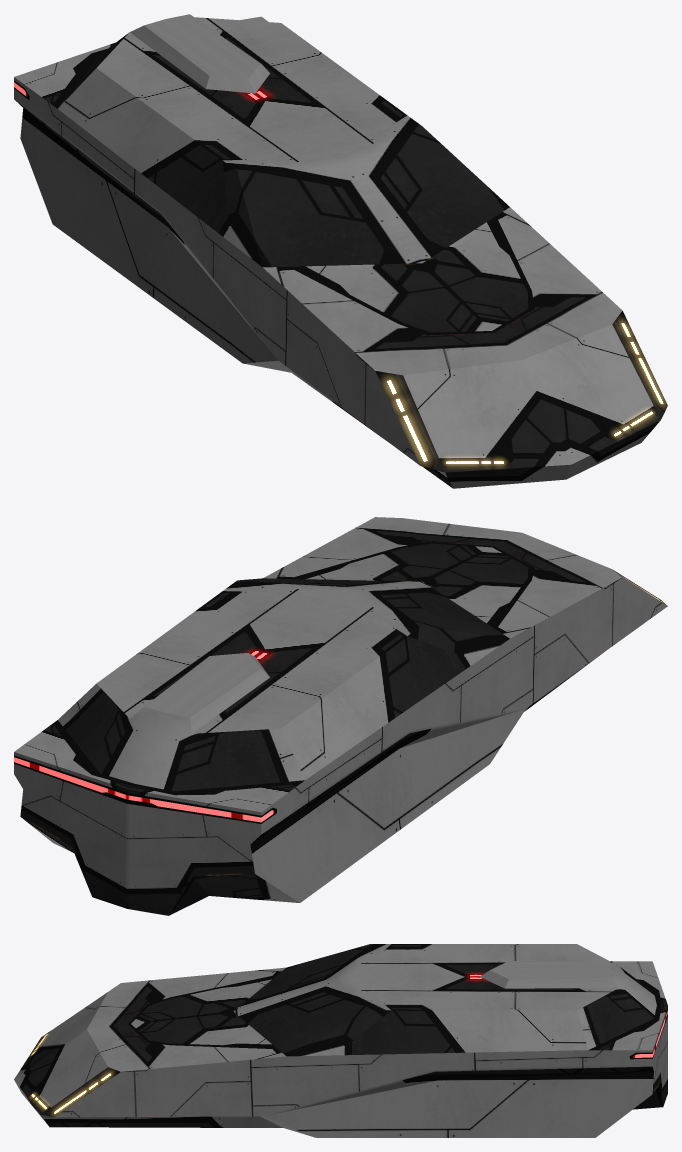
The model's file is city_car_04.glb.
3 views of the same model, one above another, from view 1: azimuth 30°, elevation 25°; view 2: azimuth 150°, elevation 25°; view 3: azimuth 270°, elevation 25° (orthographic). The views are drawn at different scales.
Visible parts, largest first — view 1: sci-fi_LODs_set_004_02; view 2: sci-fi_LODs_set_004_02; view 3: sci-fi_LODs_set_004_02.
Part boxes in pixels (x1,y1,x2,y2): sci-fi_LODs_set_004_02: [14, 14, 667, 488]; sci-fi_LODs_set_004_02: [14, 517, 667, 915]; sci-fi_LODs_set_004_02: [14, 944, 667, 1137].
Bounding box in the file's own units: 1.92 × 1.24 × 5.96.
Materials: 2 (1 with a texture image).
